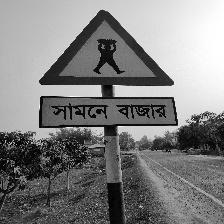Market-in-front: (38, 10, 178, 130)
